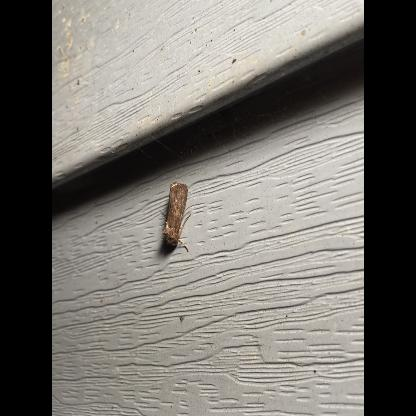Fall Armyworm Moth: (159, 181, 193, 253)
